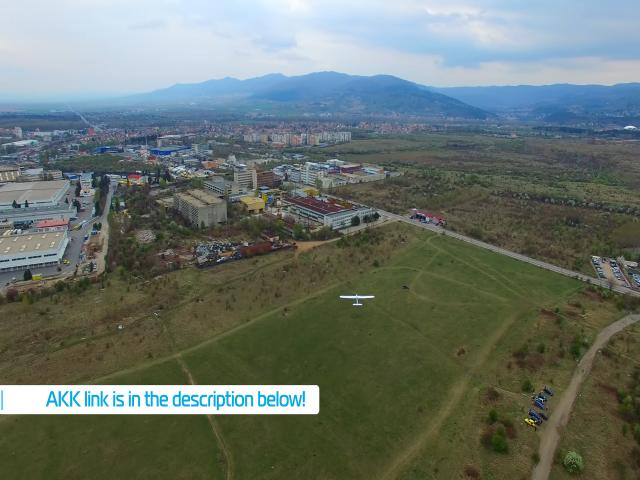plane: (339, 295, 374, 306)
